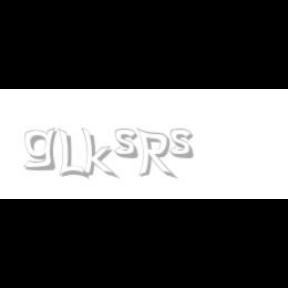L: (58, 128, 86, 180)
R: (136, 128, 174, 180)
g: (24, 128, 60, 171)
k: (81, 128, 119, 180)
s: (114, 128, 142, 160), (170, 128, 198, 160)
